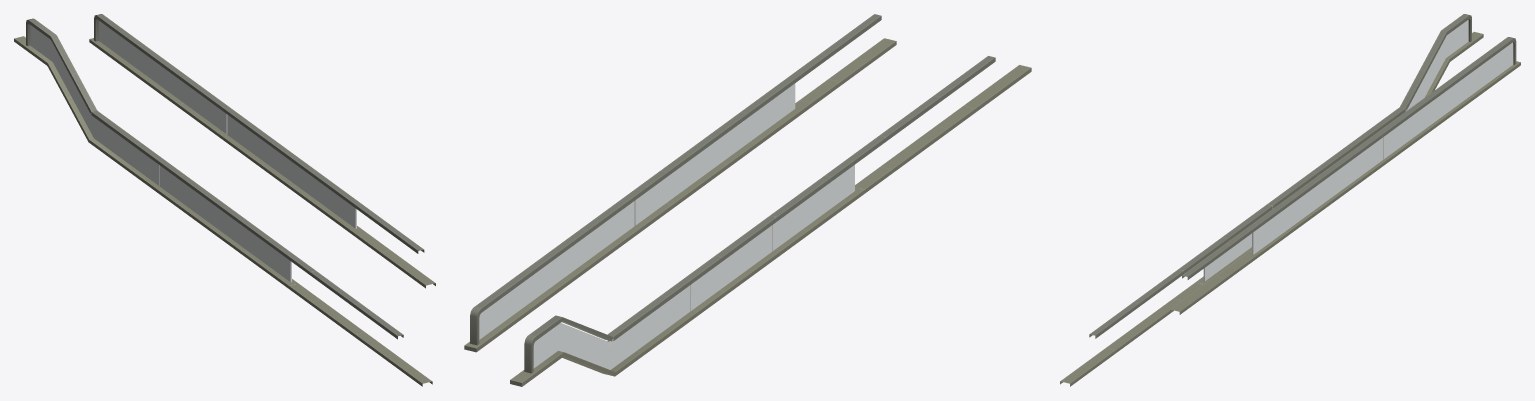
The model's file is pref_sm_city_riverwall01b_snow_lv3.fbx.
The picture shows the model from 3 angles, left to right: view 1: azimuth 30°, elevation 25°; view 2: azimuth 150°, elevation 25°; view 3: azimuth 330°, elevation 25°; orthographic projection. The views are drawn at different scales.
Parts seen in each view (by area): view 1: pref_sm_city_riverwall01b_snow_lv3; view 2: pref_sm_city_riverwall01b_snow_lv3; view 3: pref_sm_city_riverwall01b_snow_lv3.
Part boxes in pixels (x1,y1,x2,y2): pref_sm_city_riverwall01b_snow_lv3: (14,14,435,386); pref_sm_city_riverwall01b_snow_lv3: (464,14,1031,386); pref_sm_city_riverwall01b_snow_lv3: (1060,14,1520,386).
Size of the model in its own units: 3.44 by 3.82 by 37.04.
